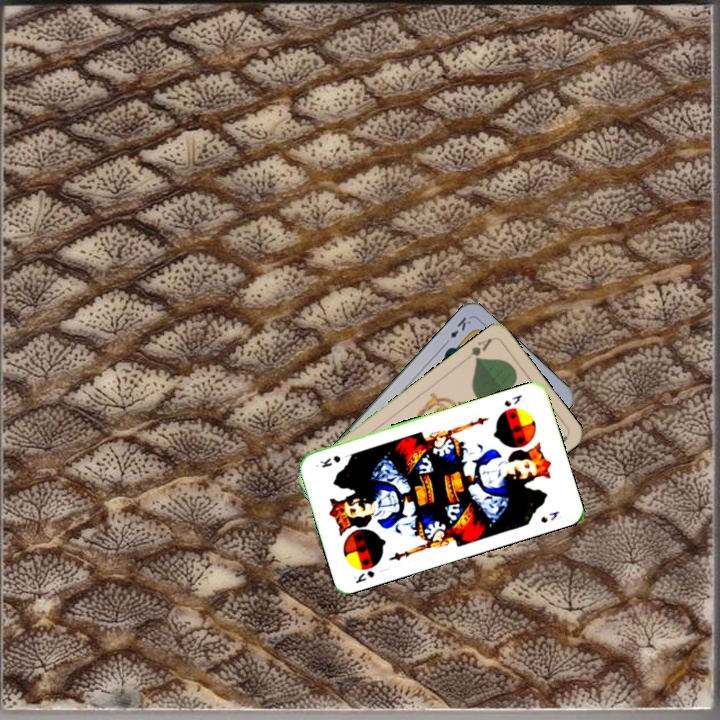EK: (440, 313, 474, 348)
GA: (460, 334, 495, 364)
SK: (349, 566, 377, 586), (500, 391, 525, 409)
